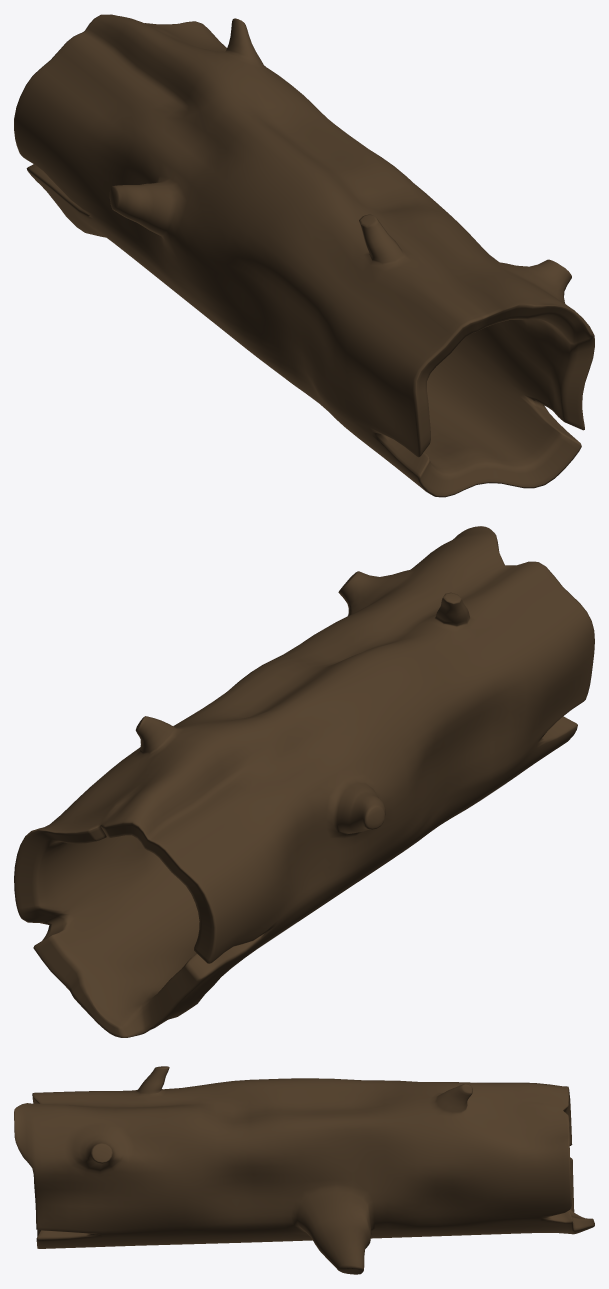
The model's file is Mesh_Log.fbx.
The picture shows the model from 3 angles, top to bottom: view 1: azimuth 30°, elevation 25°; view 2: azimuth 150°, elevation 25°; view 3: azimuth 270°, elevation 25°; orthographic projection. The views are drawn at different scales.
Parts seen in each view (by area): view 1: pCylinder3; view 2: pCylinder3; view 3: pCylinder3.
Boxes of the visible parts, <box> form: pCylinder3: <box>14,14,594,497</box>; pCylinder3: <box>14,526,594,1037</box>; pCylinder3: <box>14,1066,594,1274</box>.
Bounding box in the file's own units: 59.73 × 48.24 × 152.
